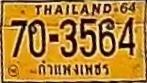0: (28, 19, 45, 56)
3: (59, 18, 76, 56)
4: (118, 16, 134, 54)
5: (79, 18, 96, 56)
6: (98, 18, 115, 56)
7: (10, 20, 26, 56)
KPT: (34, 58, 110, 79)
